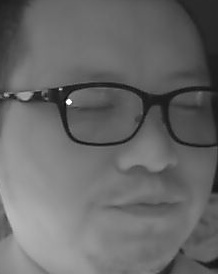blink: (73, 100, 111, 120), (171, 98, 202, 116)
glass: (59, 81, 148, 147), (166, 85, 216, 149)
mouth: (108, 186, 182, 227)
